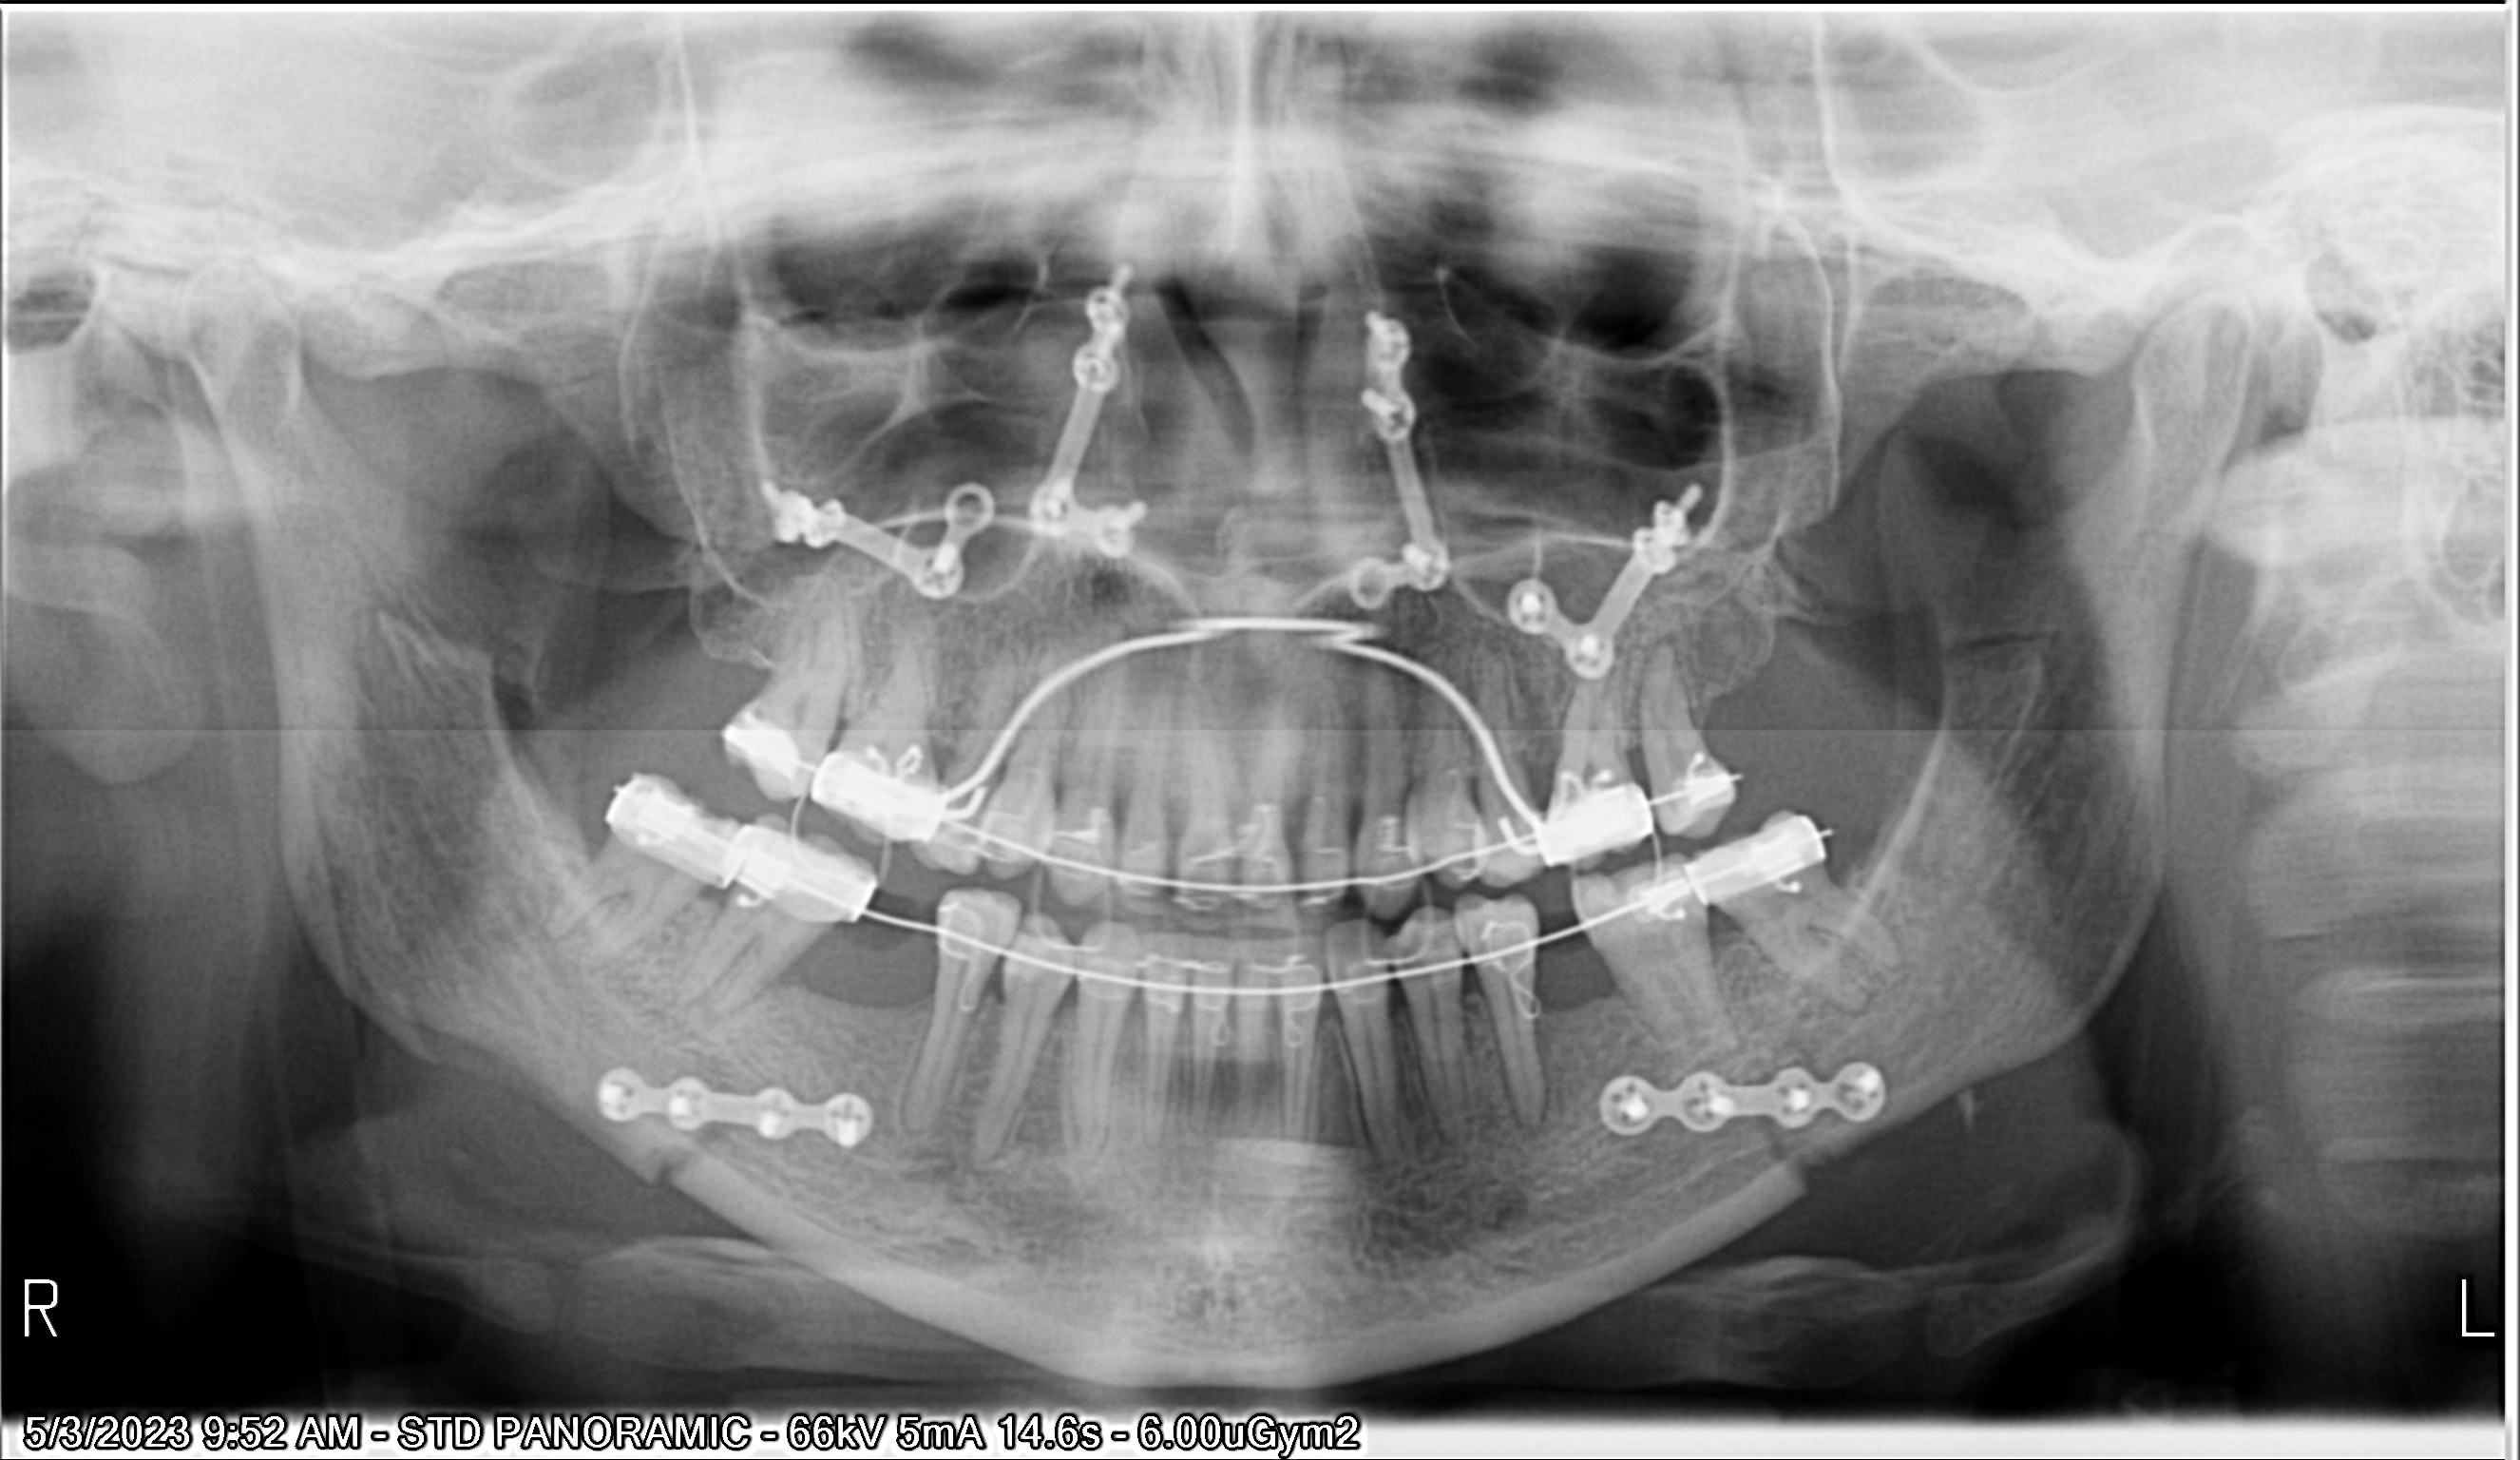API: (707, 992, 762, 1031)
BON: (771, 925, 827, 1012), (1587, 949, 1622, 1005), (1711, 909, 1737, 947)
FUR: (731, 930, 769, 972)
ORD: (622, 728, 1888, 1020), (851, 600, 1763, 906)
SRD: (1303, 309, 1492, 605), (1016, 259, 1200, 558), (1514, 481, 1716, 683), (585, 1067, 887, 1196), (749, 433, 971, 603), (1596, 1064, 1898, 1175)
